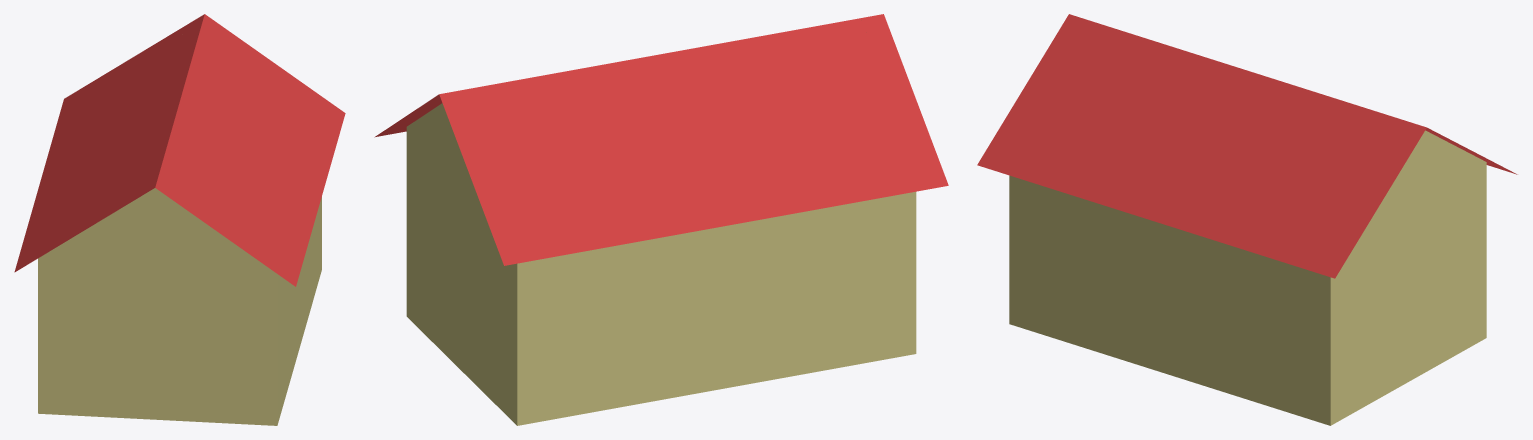
3 views of the same model, side by side, from view 1: azimuth 30°, elevation 25°; view 2: azimuth 150°, elevation 25°; view 3: azimuth 270°, elevation 25° (orthographic). The views are drawn at different scales.
Parts seen in each view (by area): view 1: group_5, group_3, group_4; view 2: group_5, group_3, group_4; view 3: group_5, group_3.
Part boxes in pixels (left/top/right/bottom): group_5: left=38, top=188, right=321, bottom=425; group_3: left=14, top=14, right=345, bottom=286; group_4: left=85, top=14, right=204, bottom=222; group_5: left=406, top=103, right=916, bottom=425; group_3: left=439, top=15, right=948, bottom=265; group_4: left=374, top=14, right=895, bottom=242; group_5: left=1009, top=130, right=1486, bottom=425; group_3: left=977, top=14, right=1433, bottom=278.
Bounding box in the file's own units: 22.38 × 23.61 × 12.51.
